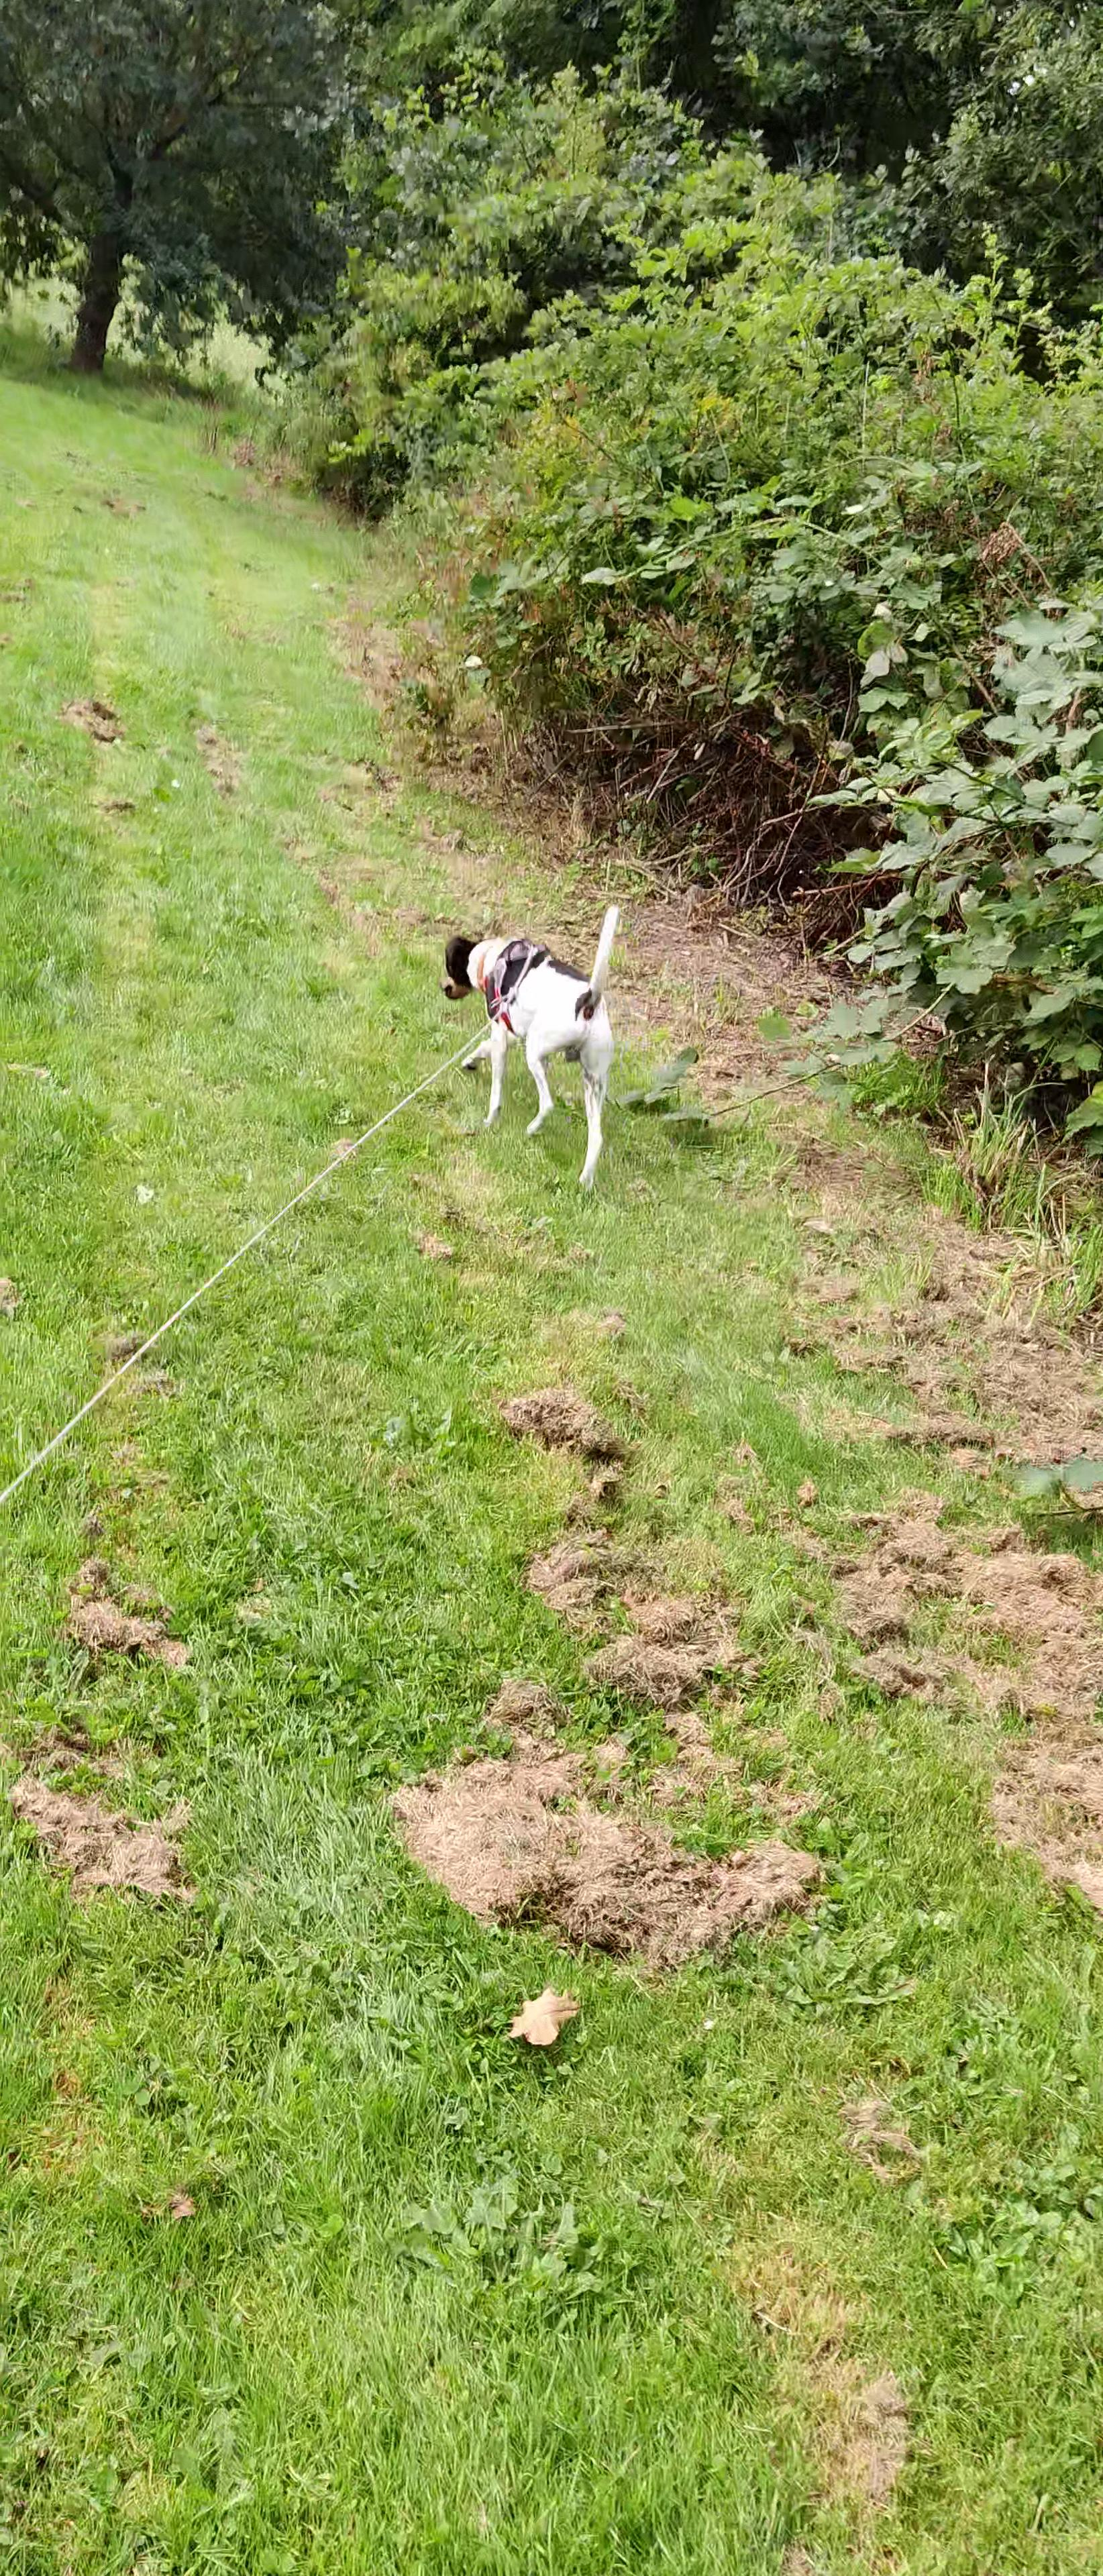Dog: (426, 874, 639, 1219)
